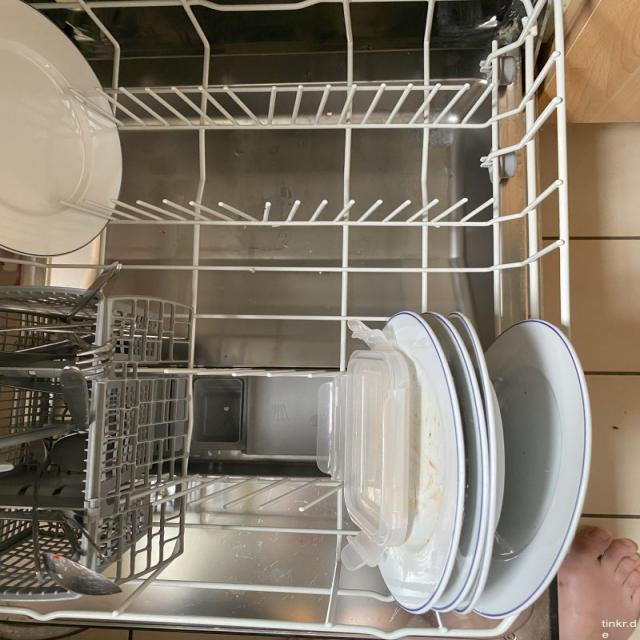clutery_bin: (1, 287, 94, 596)
empty_slot: (108, 4, 556, 294), (157, 308, 340, 611)
